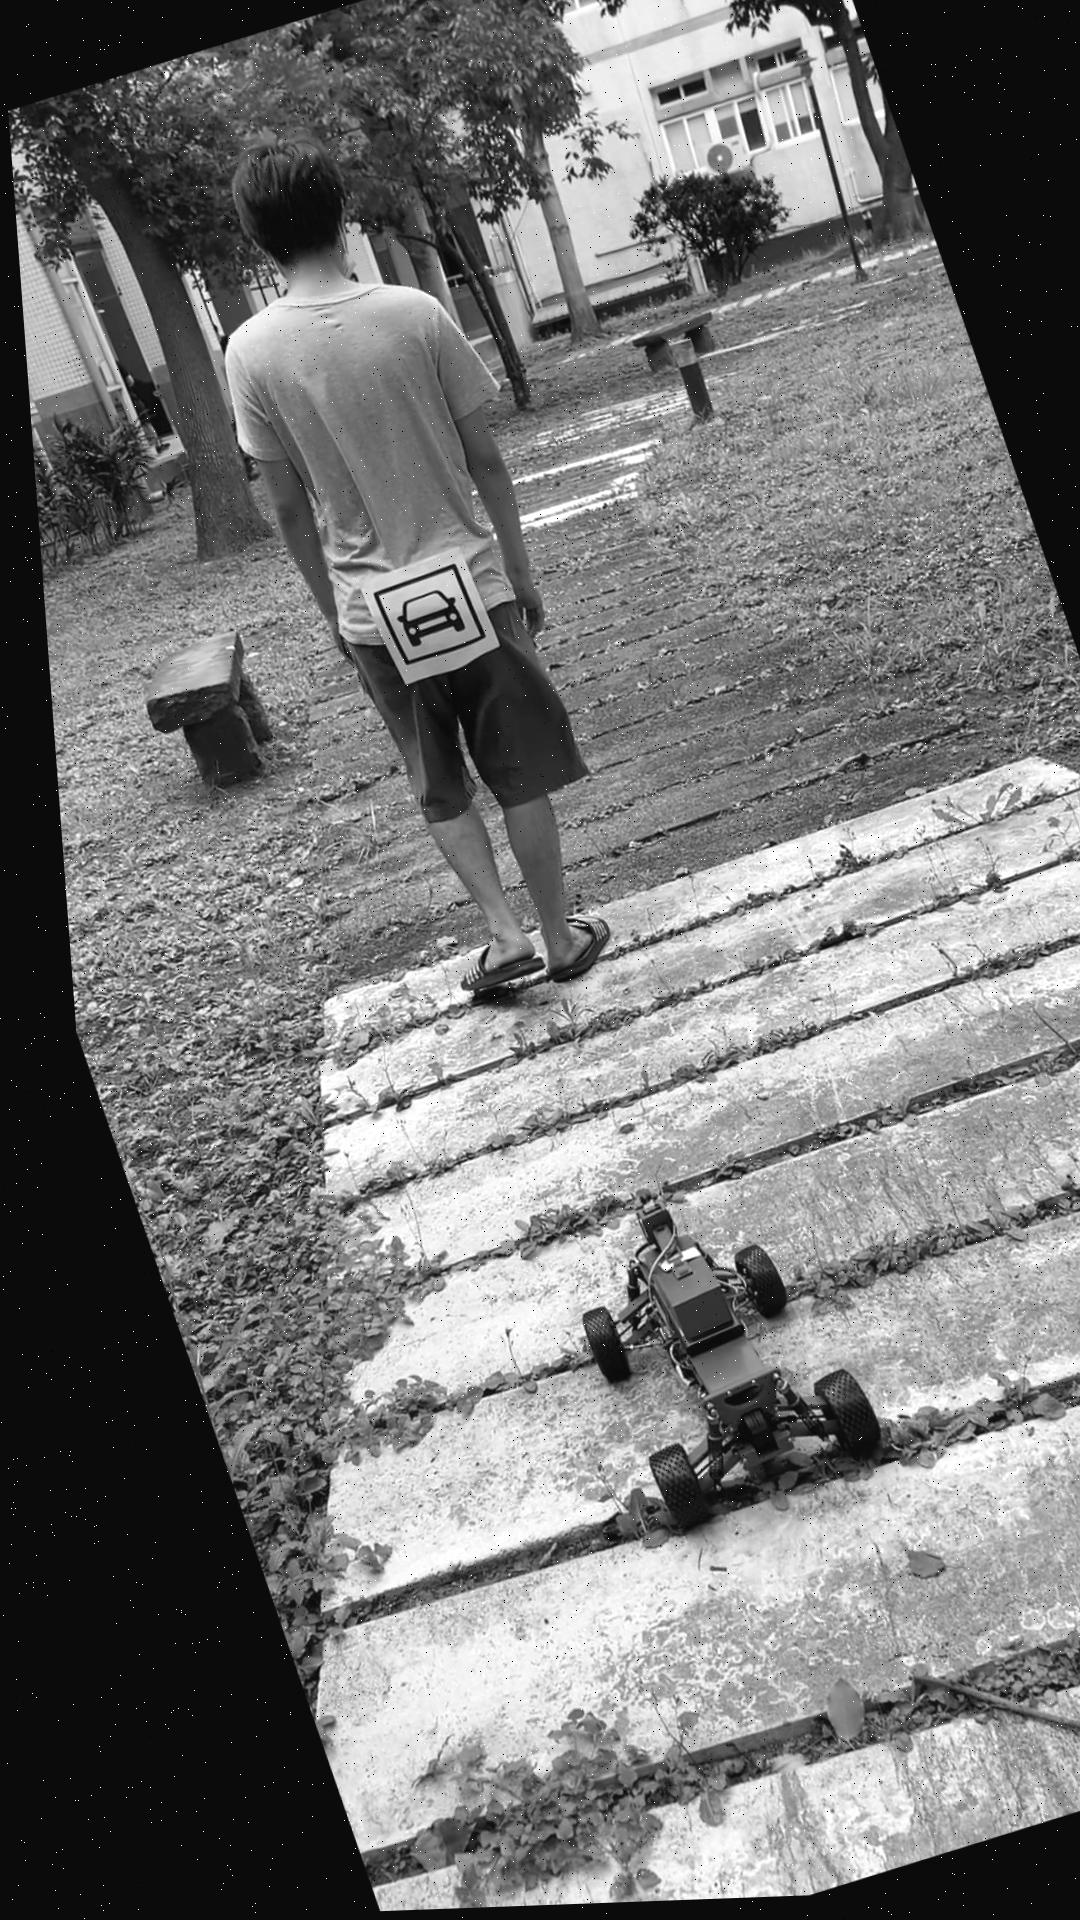car_img: (360, 563, 480, 673)
